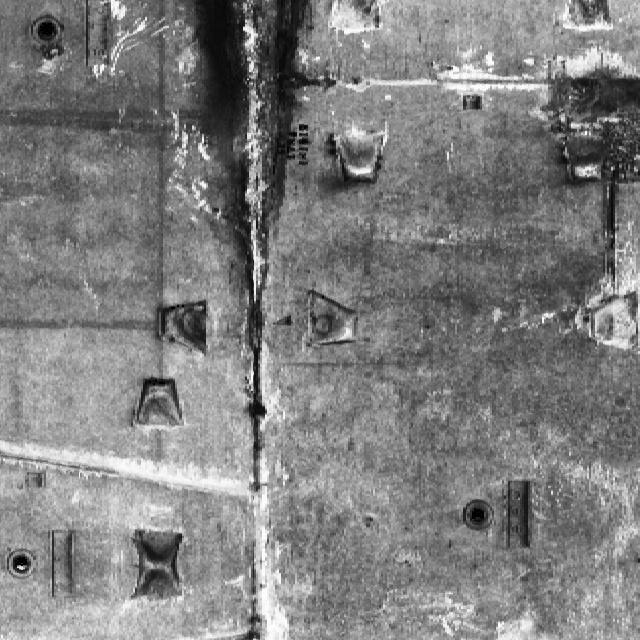leakage: (184, 0, 319, 422), (531, 43, 639, 292)
